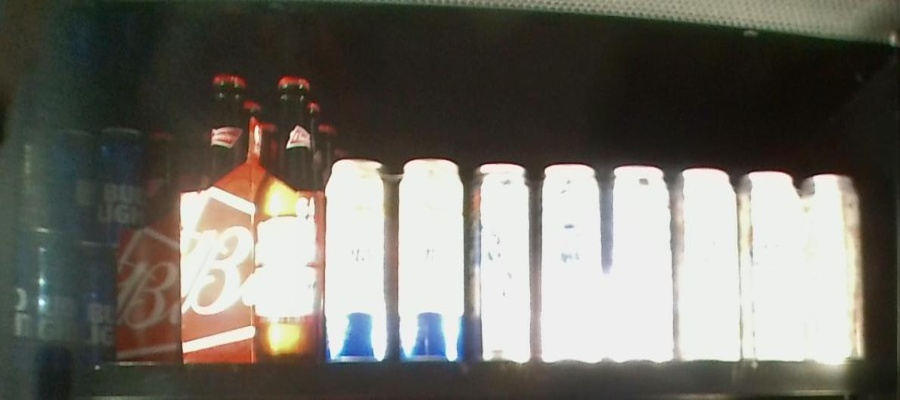bottle: (469, 161, 676, 367), (184, 70, 321, 360), (676, 166, 864, 359), (325, 158, 464, 366), (134, 126, 181, 365)
